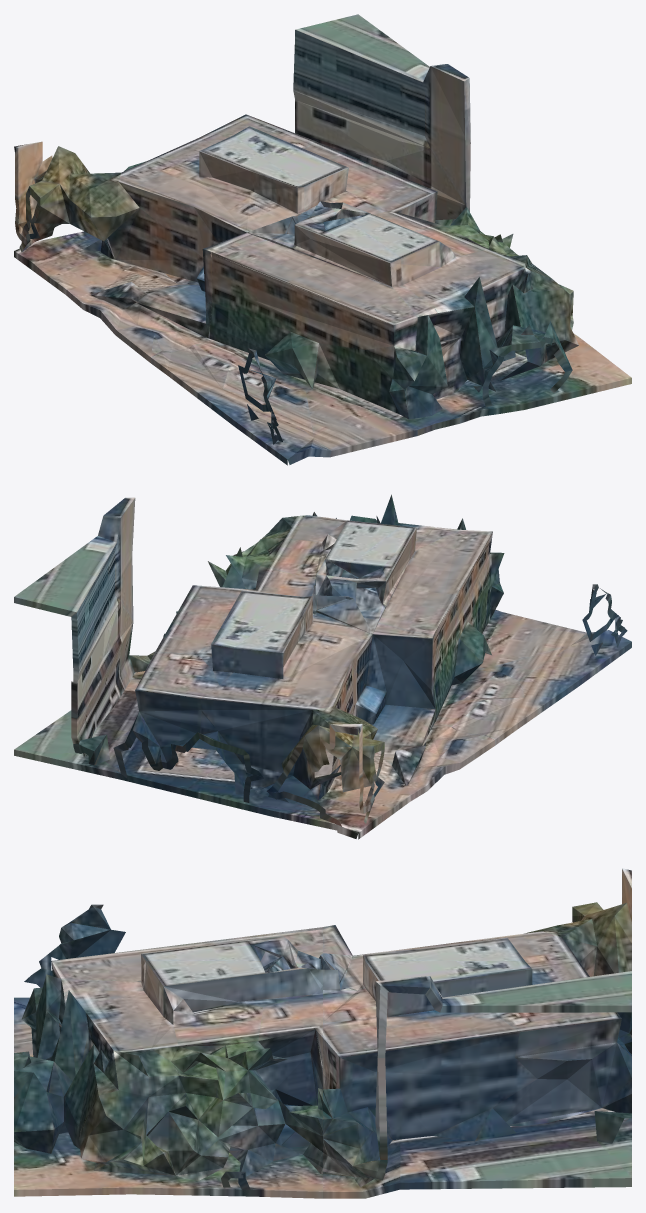
File: chunk_4_-9.glb
3 renders of one model, top to bottom at view 1: azimuth 30°, elevation 25°; view 2: azimuth 150°, elevation 25°; view 3: azimuth 270°, elevation 25°, orthographic. The views are drawn at different scales.
Visible parts, largest first — view 1: hero-chunk; view 2: hero-chunk; view 3: hero-chunk.
Part boxes in pixels (box(x1,y1,x2,y2)): hero-chunk: box(14, 14, 631, 465); hero-chunk: box(14, 494, 631, 839); hero-chunk: box(14, 868, 631, 1198).
Size of the model in its own units: 55.42 by 29.07 by 76.32.
2 materials, 2 textured.
